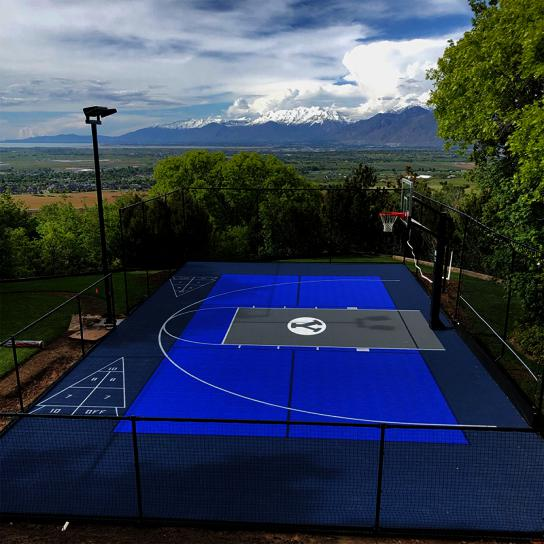basketball-hoop: (377, 209, 400, 233)
